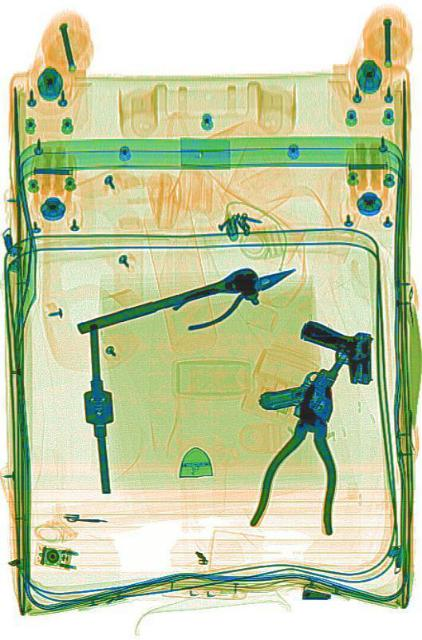Gun: (255, 308, 348, 444), (293, 315, 376, 385)
Pliers: (247, 354, 362, 556), (170, 249, 298, 337)
